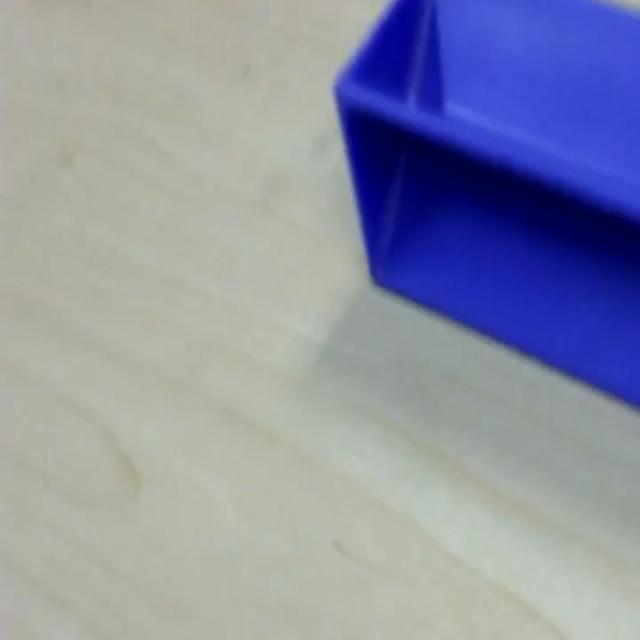blue_block: (331, 0, 638, 409)
